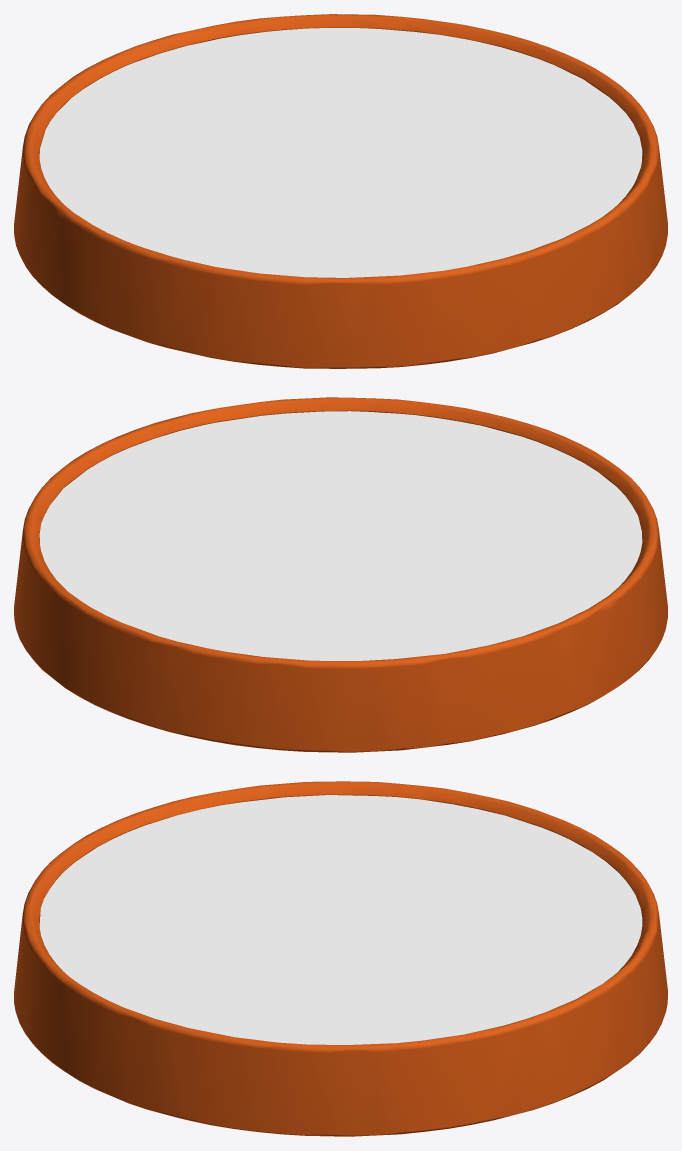
File: bondis_zegar_scienny_90601709.glb
3 views of the same model, one above another, from view 1: azimuth 30°, elevation 25°; view 2: azimuth 150°, elevation 25°; view 3: azimuth 270°, elevation 25° (orthographic).
Visible parts, largest first — view 1: bondis_zegar_scienny_90601709; view 2: bondis_zegar_scienny_90601709; view 3: bondis_zegar_scienny_90601709.
Boxes of the visible parts, x1,y1,x2,y2 form: bondis_zegar_scienny_90601709: (14,14,667,368); bondis_zegar_scienny_90601709: (14,397,667,752); bondis_zegar_scienny_90601709: (14,781,667,1136).
Bounding box in the file's own units: 0.3791 × 0.0549 × 0.3791.
4 materials, 4 textured.
